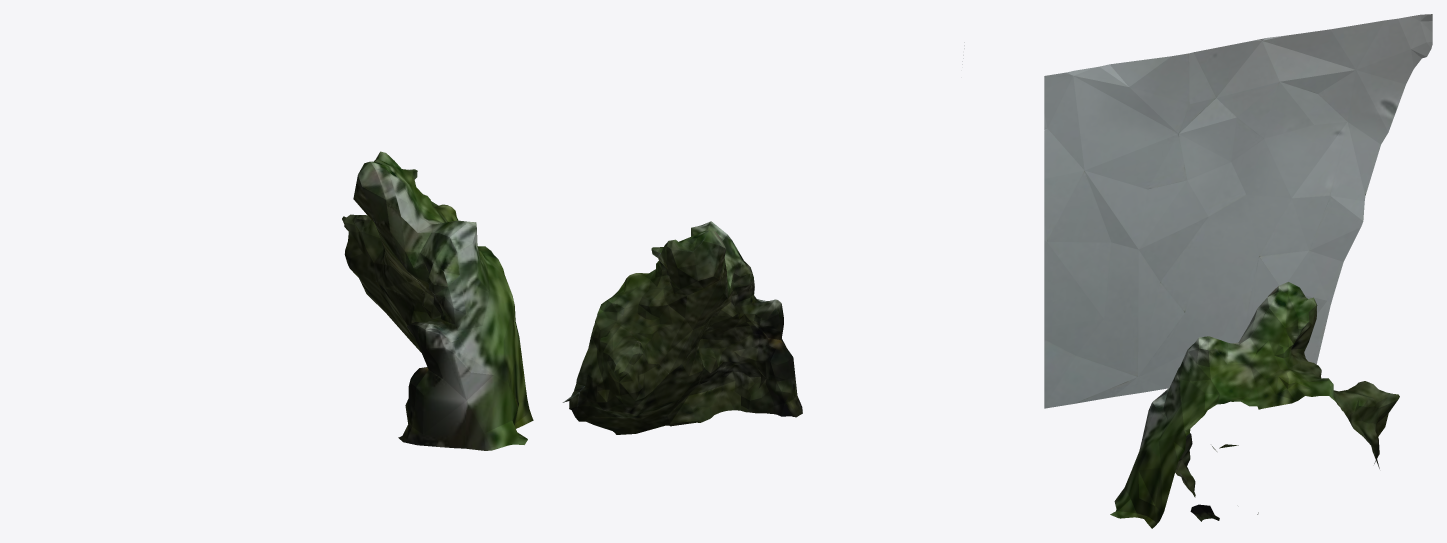
3 views of the same model, side by side, from view 1: azimuth 30°, elevation 25°; view 2: azimuth 150°, elevation 25°; view 3: azimuth 270°, elevation 25° (orthographic). The views are drawn at different scales.
Bounding box in the file's own units: 1.67 × 1.67 × 1.67.
Materials: 4 (4 with a texture image).
